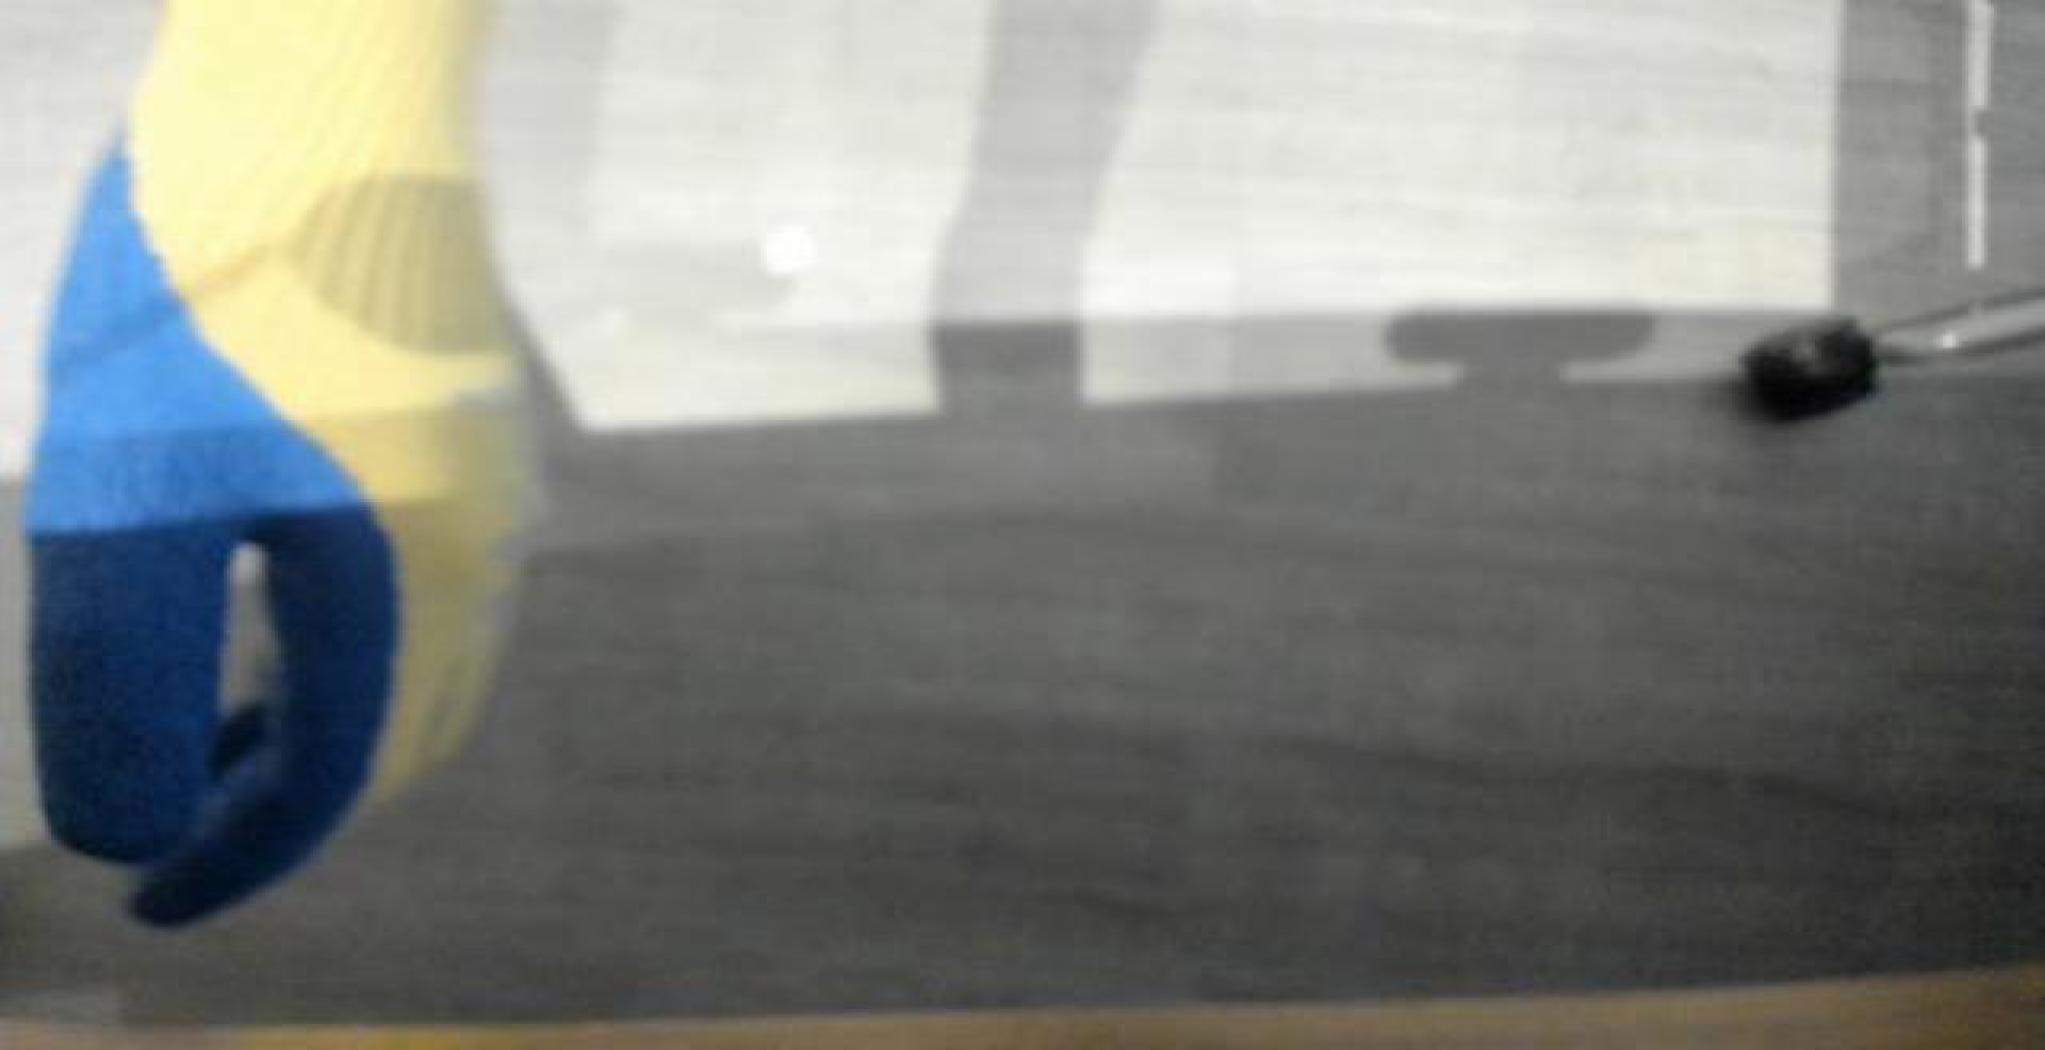gloved: (2, 0, 600, 897)
